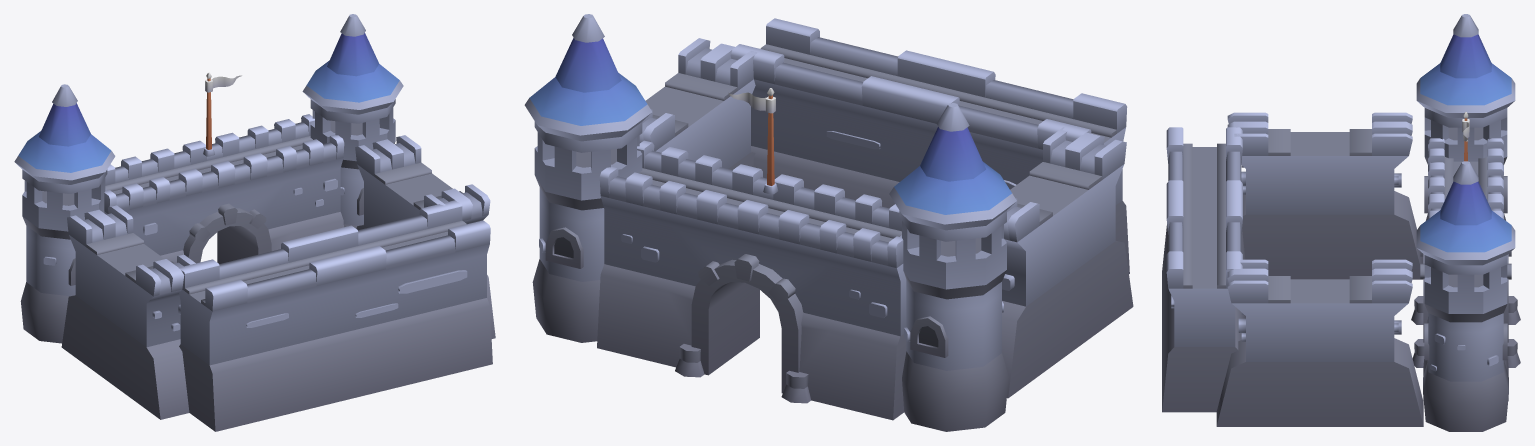
Rendered from london_battle_3.glb.
3 renders of one model, left to right at view 1: azimuth 30°, elevation 25°; view 2: azimuth 150°, elevation 25°; view 3: azimuth 270°, elevation 25°, orthographic. The views are drawn at different scales.
Visible parts, largest first — view 1: castle-wall (×5), tower-complete-large (×2), castle-gate, flag-high-pennant; view 2: castle-wall (×5), tower-complete-large (×2), castle-gate, flag-high-pennant; view 3: castle-wall (×4), tower-complete-large (×2), castle-gate.
Boxes of the visible parts, x1,y1,x2,y2 form: castle-wall (×5): (61,114,495,431); tower-complete-large (×2): (14,14,403,343); castle-gate: (127,127,291,263); flag-high-pennant: (203,72,241,156); castle-wall (×5): (597,18,1133,420); tower-complete-large (×2): (524,14,1016,431); castle-gate: (664,157,871,404); flag-high-pennant: (728,88,778,194); castle-wall (×4): (1162,112,1503,426); tower-complete-large (×2): (1416,14,1515,431); castle-gate: (1411,165,1520,372).
Bounding box in the file's own units: 20.54 × 12.78 × 16.48.
4 materials, 4 textured.
